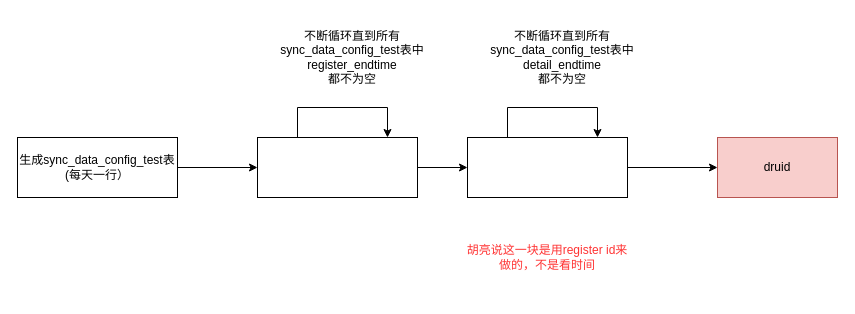
The diagram is 855 pixels wide and 314 high, and some of its shapes have lost their labels. Each missing label, with the centre of its shape:
"抽取每一天的detail 导出为parquet" belongs at (x=547, y=167).
"抽取每一天的register 导出为parquet" belongs at (x=337, y=167).
